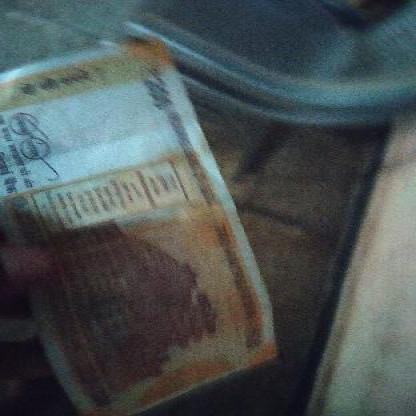New200Back: (4, 34, 279, 416)
